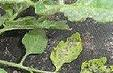Tomato Septoria leaf spot: (49, 29, 85, 73), (79, 58, 113, 73)
